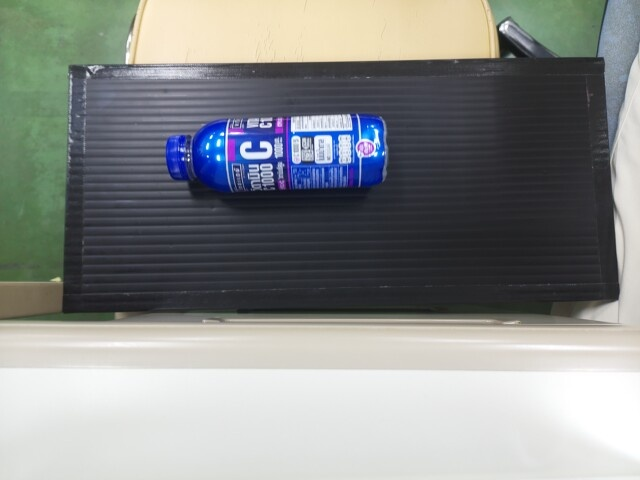plastic_bottle: (165, 117, 387, 192)
